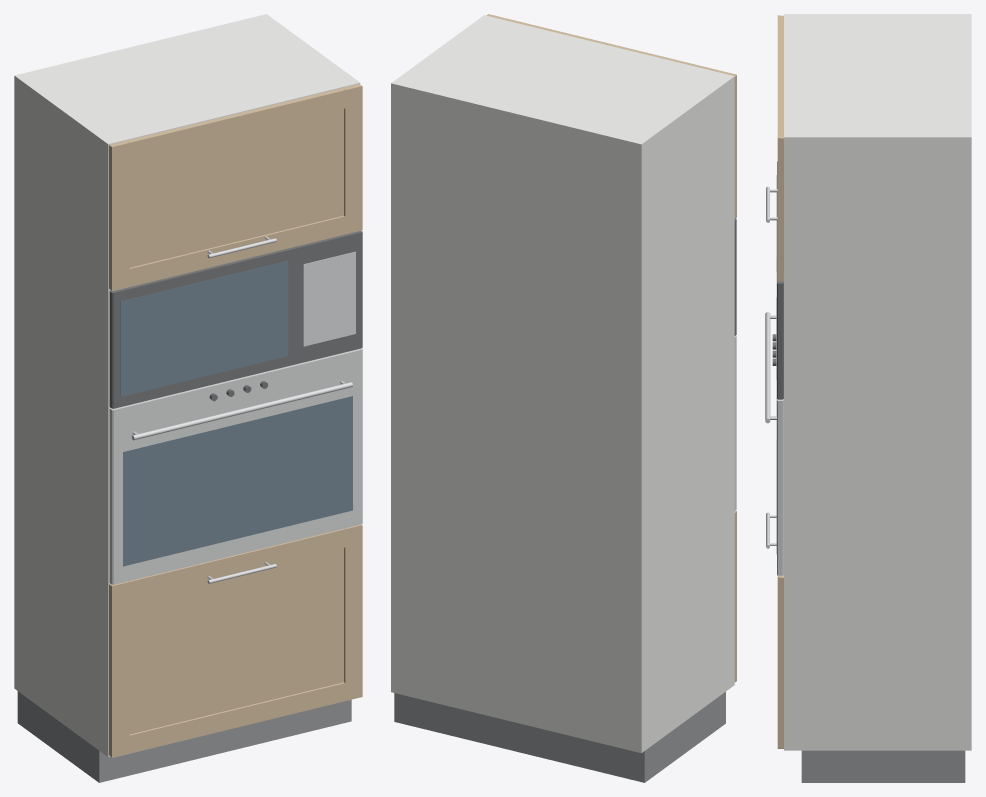
3 renders of one model, left to right at view 1: azimuth 30°, elevation 25°; view 2: azimuth 150°, elevation 25°; view 3: azimuth 270°, elevation 25°, orthographic.
Visible parts, largest first — view 1: Tủ bếp cao Rộng=900; Sâu=600; view 2: Tủ bếp cao Rộng=900; Sâu=600; view 3: Tủ bếp cao Rộng=900; Sâu=600.
Boxes of the visible parts, x1=… form: Tủ bếp cao Rộng=900; Sâu=600: x1=14, y1=14, x2=362, y2=782; Tủ bếp cao Rộng=900; Sâu=600: x1=391, y1=14, x2=736, y2=782; Tủ bếp cao Rộng=900; Sâu=600: x1=765, y1=14, x2=971, y2=782.
Bounding box in the file's own units: 0.9 × 2.2 × 0.638.
